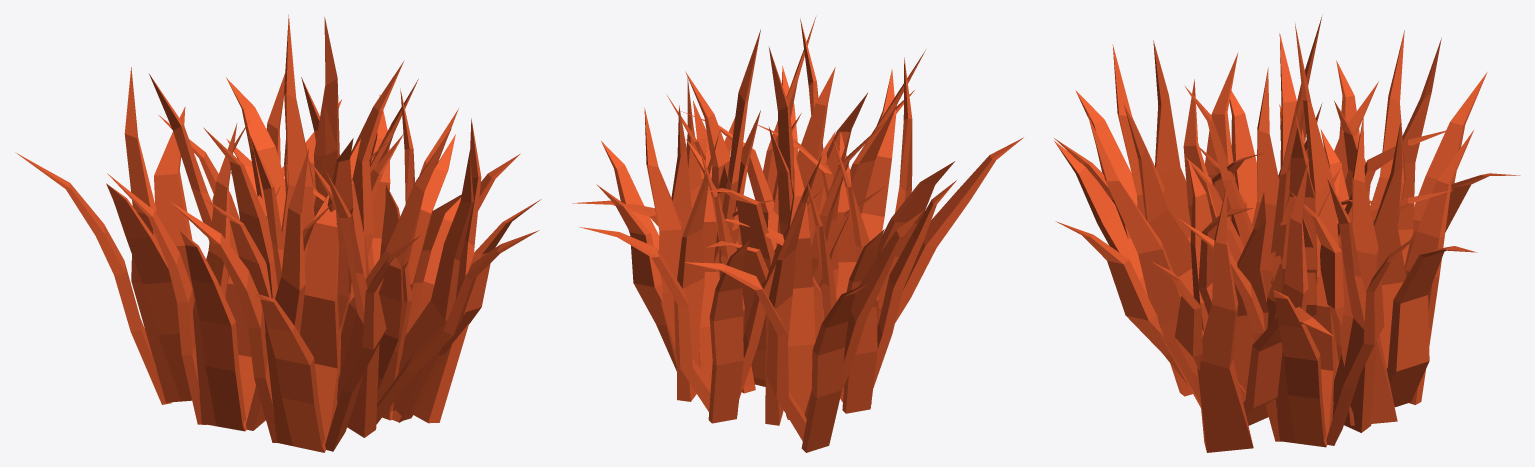
The model's file is grass3.fbx.
The picture shows the model from 3 angles, left to right: view 1: azimuth 30°, elevation 25°; view 2: azimuth 150°, elevation 25°; view 3: azimuth 270°, elevation 25°; orthographic projection. The views are drawn at different scales.
Parts seen in each view (by area): view 1: grass3; view 2: grass3; view 3: grass3.
Part boxes in pixels (x1,y1,x2,y2): grass3: (15, 14, 541, 452); grass3: (572, 16, 1023, 452); grass3: (1054, 17, 1520, 452).
Bounding box in the file's own units: 245 × 230 × 245.
